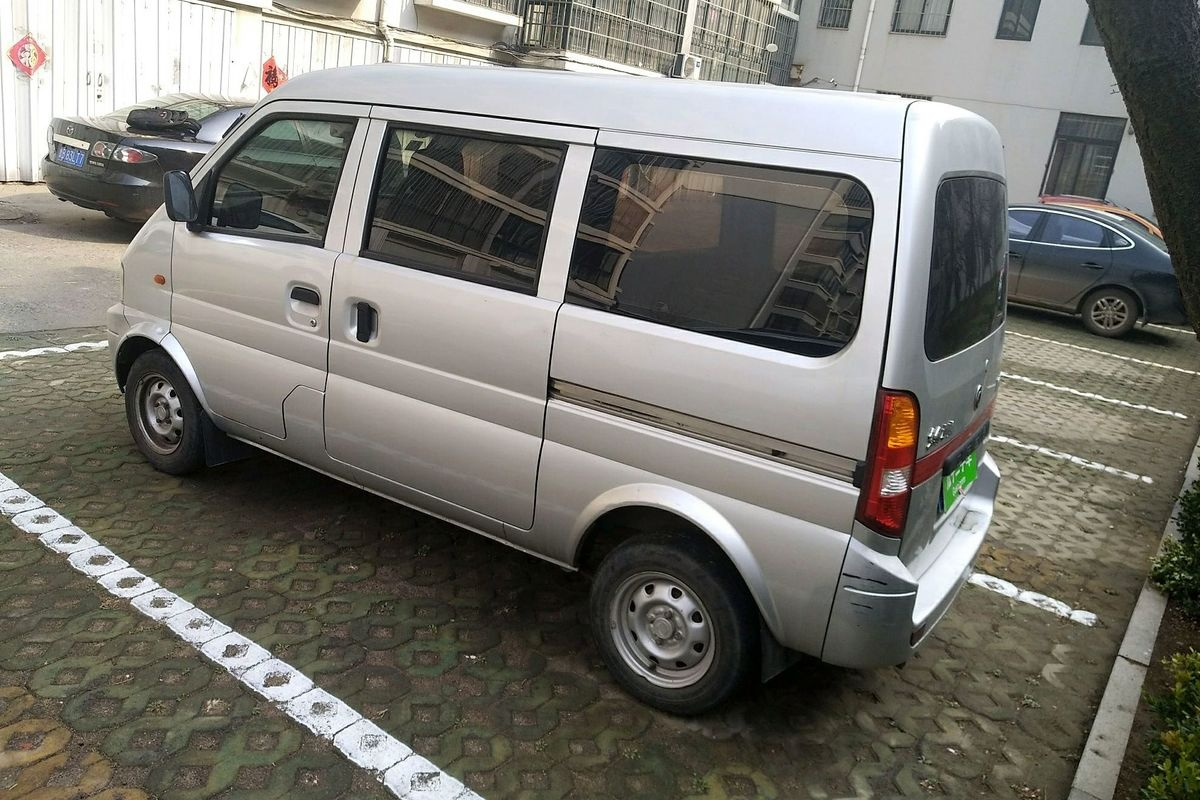minibus: (112, 60, 1020, 712)
